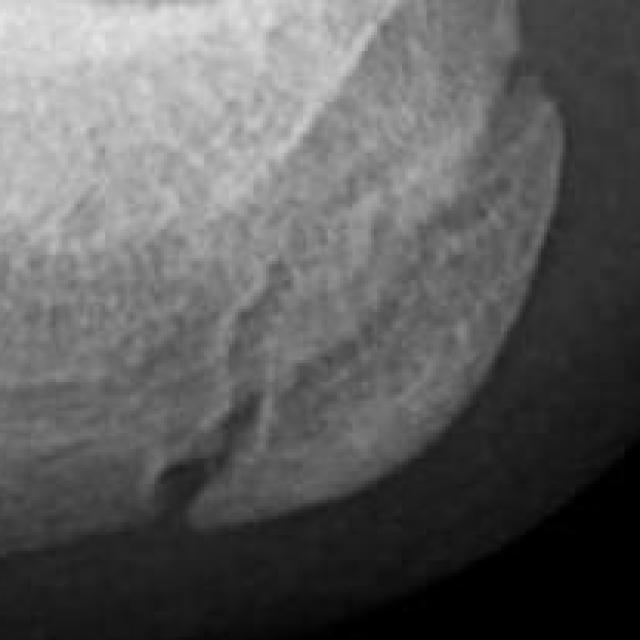fracture: (4, 3, 640, 640)
